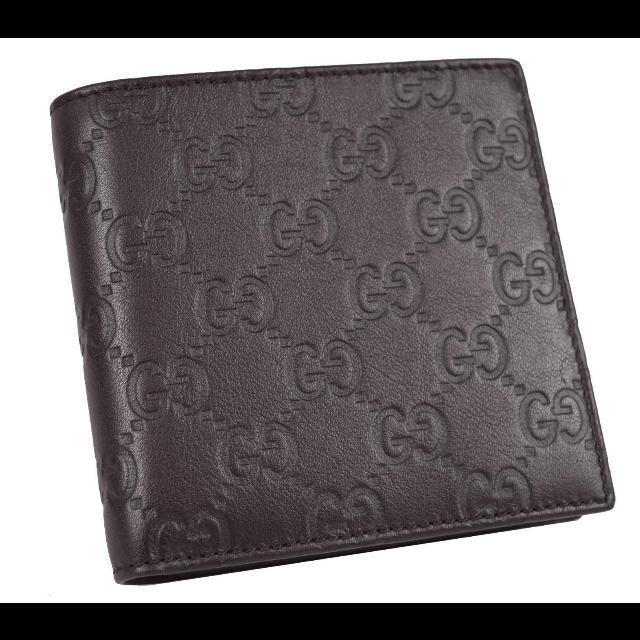wallet: (44, 51, 616, 581)
